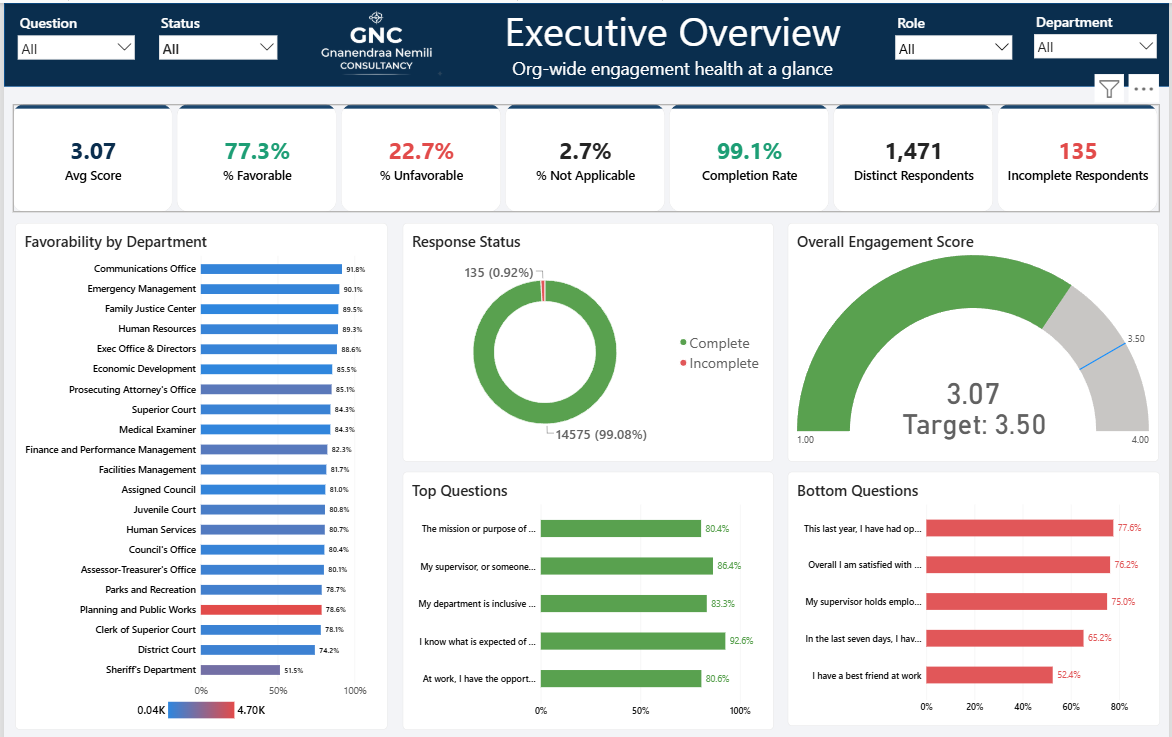

What the dashboard file says about the page in this screenshot:
{"tool":"powerbi","page":{"name":"Executive Overview","canvas":[2110,1350],"ordinal":0},"visuals":[{"type":"shape","box":[0,0,2109.5,151.6],"z":0},{"type":"textbox","box":[847.3,0,723.1,151.6],"z":1000},{"type":"slicer","fields":{"Values":["HR Survey Reponses.Role"]},"box":[1607.6,17.4,221.1,121.8],"z":2000},{"type":"slicer","fields":{"Values":["HR Survey Reponses.Department"]},"box":[1858.6,14.9,231.1,121.8],"z":3000},{"type":"slicer","fields":{"Values":["HR Survey Reponses.Question"]},"box":[19.9,17.4,221.1,121.8],"z":4000},{"type":"slicer","fields":{"Values":["HR Survey Reponses.Status"]},"box":[275.8,17.4,223.6,121.8],"z":5000},{"type":"cardVisual","fields":{"Data":["HR Survey Reponses.Org Avg Engagement Score","HR Survey Reponses.% Favorable","HR Survey Reponses.% Unfavorable","HR Survey Reponses.% Not Applicable","HR Survey Reponses.Completion Rate","HR Survey Reponses.Distinct Respondents","HR Survey Reponses.Incomplete Respondents"]},"box":[17.4,183.9,2072.3,193.8],"z":6000},{"type":"clusteredBarChart","title":"Favorability by Department","fields":{"Category":["HR Survey Reponses.Department"],"Y":["HR Survey Reponses.% Favorable"]},"box":[19.9,397.6,673.4,916.9],"z":7000},{"type":"donutChart","title":"Response Status","fields":{"Category":["HR Survey Reponses.Status"],"Y":["CountNonNull(HR Survey Reponses.Response ID)"]},"box":[720.6,397.6,670.9,432.3],"z":8000},{"type":"gauge","title":"Overall Engagement Score","fields":{"Y":["HR Survey Reponses.Avg Engagement Score"]},"box":[1418.8,397.6,670.9,432.3],"z":9000},{"type":"clusteredBarChart","title":"Top Questions","fields":{"Category":["HR Survey Reponses.Question Short"],"Y":["HR Survey Reponses.% Favorable"]},"box":[720.6,847.3,670.9,467.1],"z":10000},{"type":"clusteredBarChart","title":"Bottom Questions","fields":{"Category":["HR Survey Reponses.Question Short"],"Y":["HR Survey Reponses.% Favorable"]},"box":[1418.8,847.3,673.4,459.7],"z":11000},{"type":"image","box":[499.4,0,347.9,151.6],"z":12000}]}

Visuals, with their boxes in screenshot pixels (x1, y1, x2, y2), scaled from the page's 2110x1350 canvas onto the 1172x737 screenshot:
shape: [0,0,1171,83]
textbox: [471,0,872,83]
slicer - HR Survey Reponses.Role: [893,9,1016,76]
slicer - HR Survey Reponses.Department: [1032,8,1161,75]
slicer - HR Survey Reponses.Question: [11,9,134,76]
slicer - HR Survey Reponses.Status: [153,9,277,76]
cardVisual - HR Survey Reponses.Org Avg Engagement Score x HR Survey Reponses.% Favorable: [10,100,1161,206]
"Favorability by Department" clusteredBarChart: [11,217,385,718]
"Response Status" donutChart: [400,217,773,453]
"Overall Engagement Score" gauge: [788,217,1161,453]
"Top Questions" clusteredBarChart: [400,463,773,718]
"Bottom Questions" clusteredBarChart: [788,463,1162,714]
image: [277,0,471,83]
